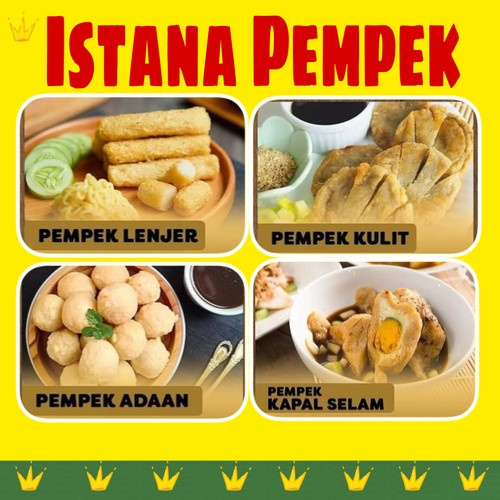pempek: (26, 108, 231, 219), (311, 101, 474, 220), (34, 265, 176, 386), (308, 285, 449, 382)
